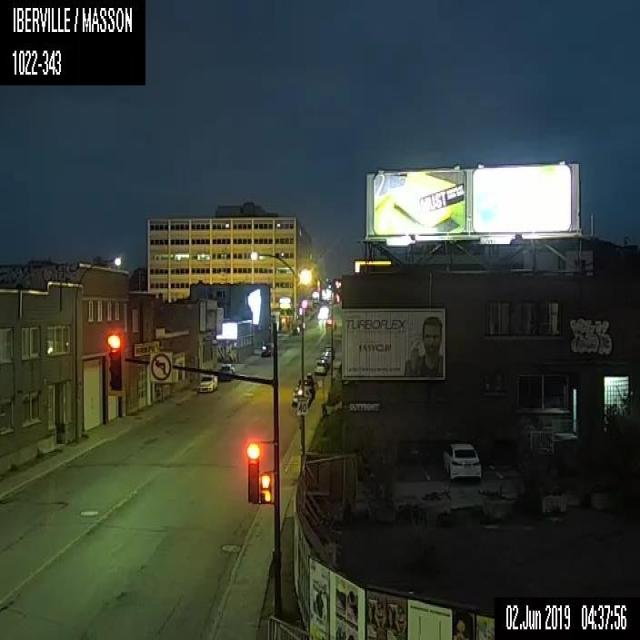vehicle: (441, 441, 482, 481), (295, 372, 316, 398), (196, 371, 218, 392), (290, 387, 311, 405), (218, 362, 235, 380), (312, 358, 328, 376), (260, 339, 273, 357), (317, 301, 328, 316)
